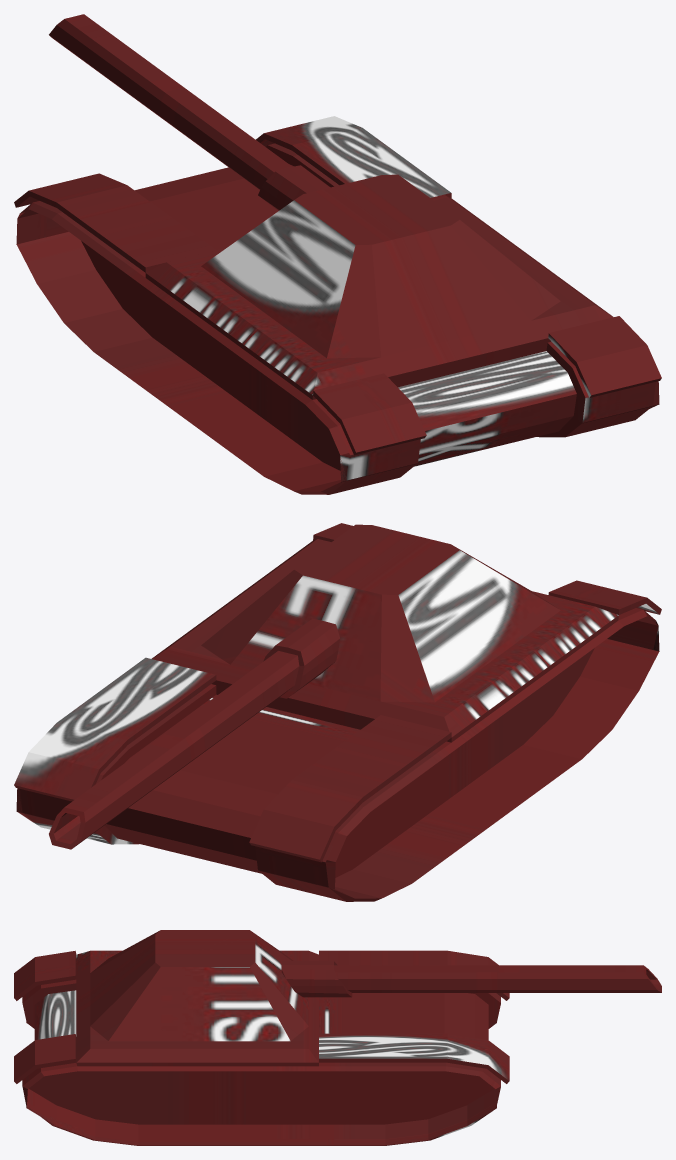
The model's file is EngincanStajCalısması8.fbx.
3 renders of one model, top to bottom at view 1: azimuth 30°, elevation 25°; view 2: azimuth 150°, elevation 25°; view 3: azimuth 270°, elevation 25°, orthographic. The views are drawn at different scales.
Parts seen in each view (by area): view 1: Cube; view 2: Cube; view 3: Cube.
Part boxes in pixels (left/top/right/bottom): Cube: left=14, top=14, right=661, bottom=494; Cube: left=14, top=523, right=661, bottom=901; Cube: left=14, top=930, right=661, bottom=1145.
Size of the model in its own units: 606 by 360 by 1475.
